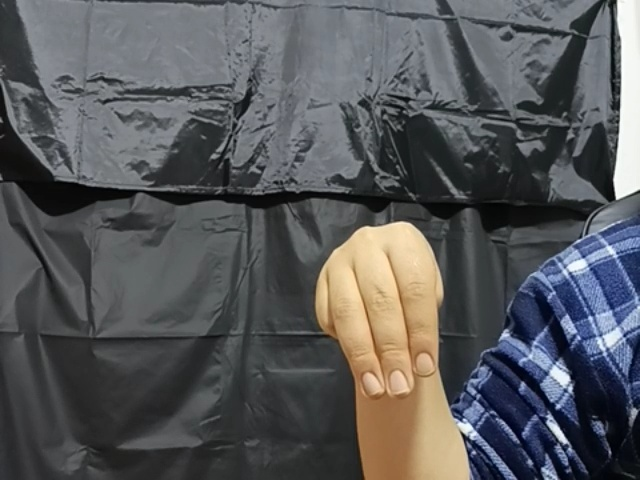M: (318, 218, 451, 402)
